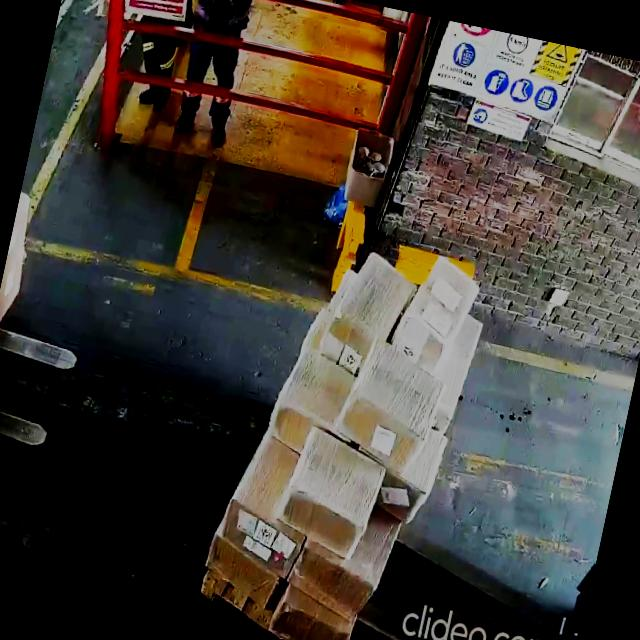Box: (339, 338, 450, 461), (276, 432, 387, 554), (390, 248, 490, 366), (273, 342, 354, 450), (287, 542, 383, 627), (335, 248, 407, 355), (194, 532, 280, 616), (215, 492, 306, 570), (271, 591, 353, 640)
